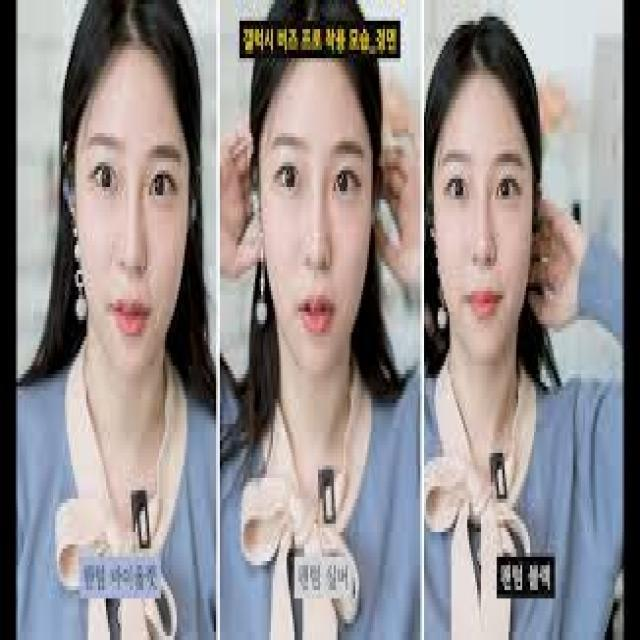earphone: (370, 185, 408, 267), (48, 158, 87, 222), (242, 178, 270, 247)
